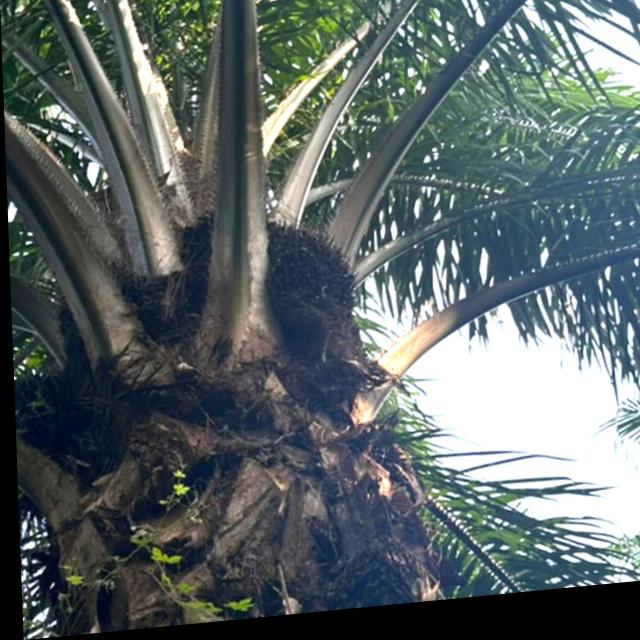unripe: (219, 207, 369, 366)
